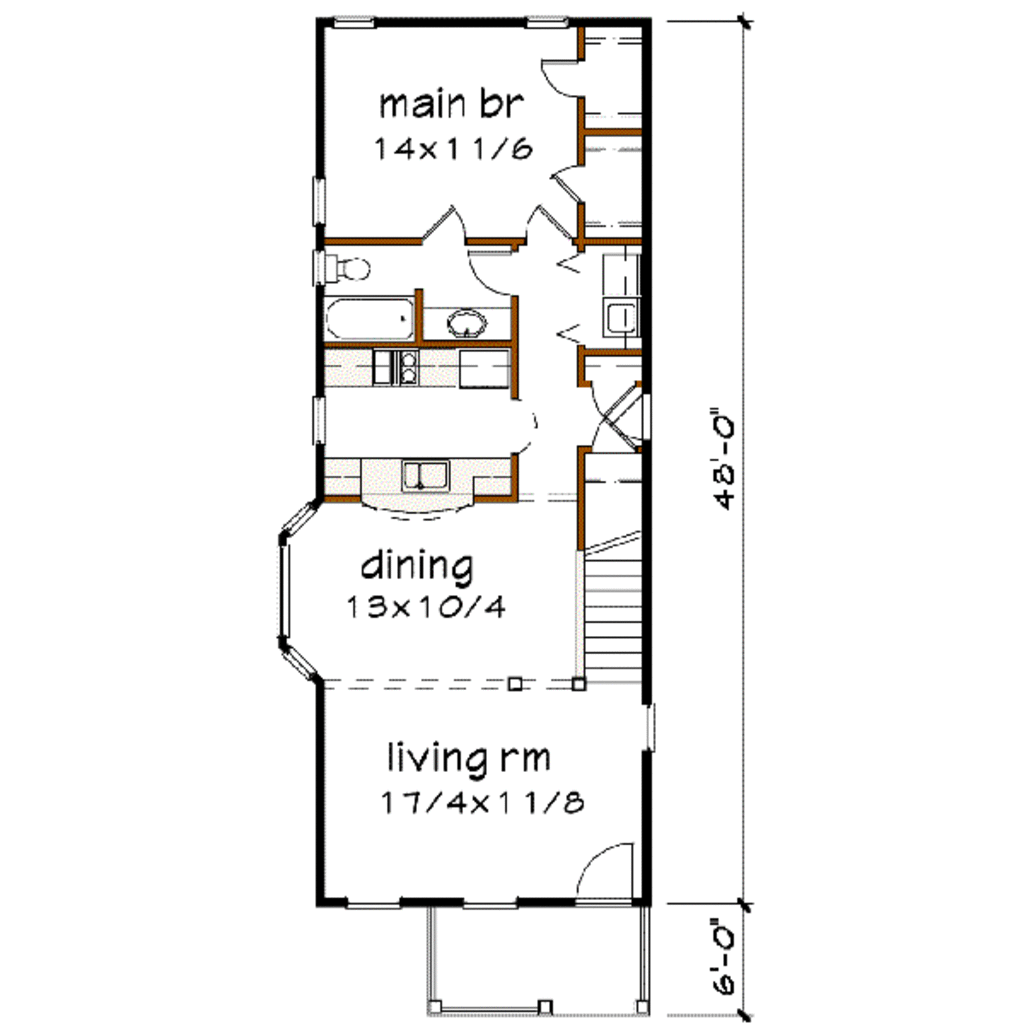door: (567, 832, 643, 909), (457, 241, 521, 301), (570, 411, 648, 451), (513, 206, 583, 249), (586, 382, 643, 422), (537, 57, 586, 103), (543, 160, 592, 203), (416, 203, 468, 243)
large_sink: (303, 247, 379, 292)
small_sink: (419, 306, 513, 344)
stairs: (576, 500, 652, 687)
tub: (316, 297, 418, 344)
twin_sink: (400, 452, 472, 503)
window: (278, 493, 319, 684), (341, 889, 424, 916), (300, 395, 338, 447), (451, 895, 541, 912), (514, 11, 576, 35), (330, 11, 383, 39), (306, 176, 335, 225)
